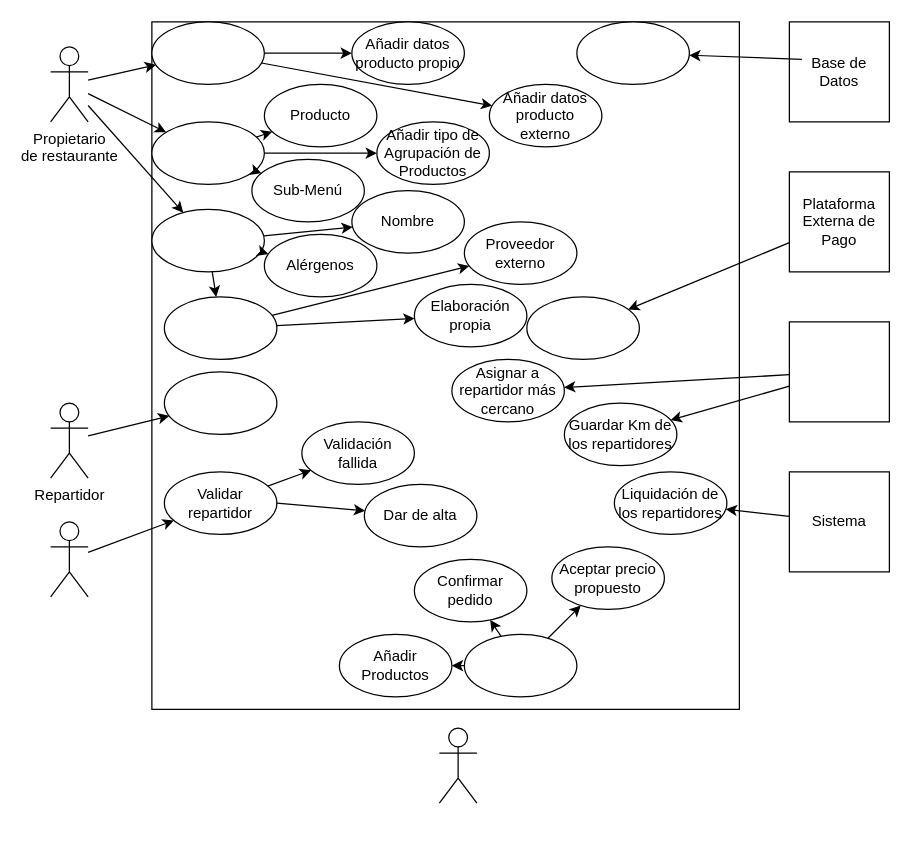
This 911x851 diagram has some shape labels left out. Each missing label, with the centre of its shape:
"Actualizar Datos" belongs at [632,52].
"Admin" belongs at [68,559].
"Cliente" belongs at [457,765].
"GPS" belongs at [838,371].
"Ingredientes" belongs at [220,327].
"Modificar plato" belongs at [207,240].
"Realizar pago" belongs at [582,327].
"Realizar pedido" belongs at [520,665].
"Registrar Menú" belongs at [207,152].
"Registrar producto" belongs at [207,52].
"Registrarse" belongs at [220,402].
